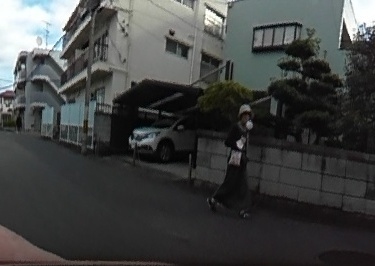person: (214, 102, 251, 216)
